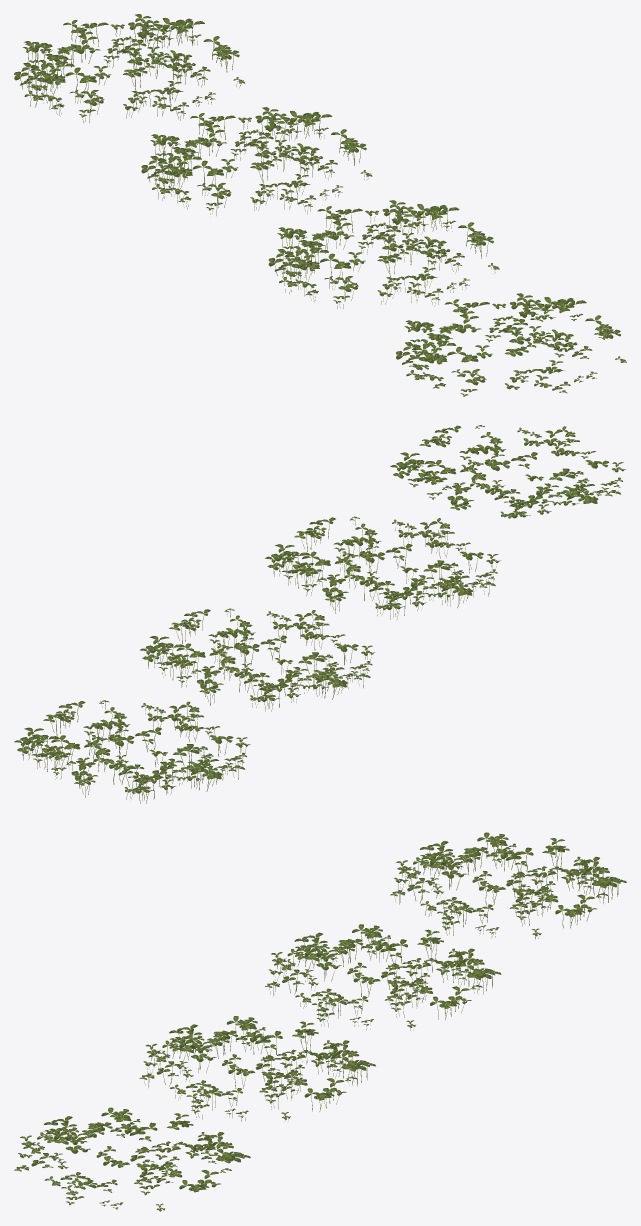
Rendered from clovers_-_plants__foliage.glb.
3 views of the same model, one above another, from view 1: azimuth 30°, elevation 25°; view 2: azimuth 150°, elevation 25°; view 3: azimuth 330°, elevation 25° (orthographic).
Parts seen in each view (by area): view 1: D01, D01_01, D01_02, D01_03; view 2: D01, D01_01, D01_02, D01_03; view 3: D01, D01_01, D01_02, D01_03.
Boxes of the visible parts, x1,y1,x2,y2 form: D01: (14, 14, 244, 122); D01_01: (141, 107, 372, 215); D01_02: (268, 200, 499, 308); D01_03: (396, 293, 626, 396); D01: (14, 700, 250, 803); D01_01: (140, 608, 374, 711); D01_02: (265, 516, 500, 619); D01_03: (390, 425, 626, 518); D01: (390, 832, 626, 939); D01_01: (265, 924, 501, 1030); D01_02: (139, 1016, 375, 1121); D01_03: (14, 1107, 250, 1211).
Size of the model in its own units: 0.4621 by 0.0563 by 1.95.
1 material, 1 textured.
